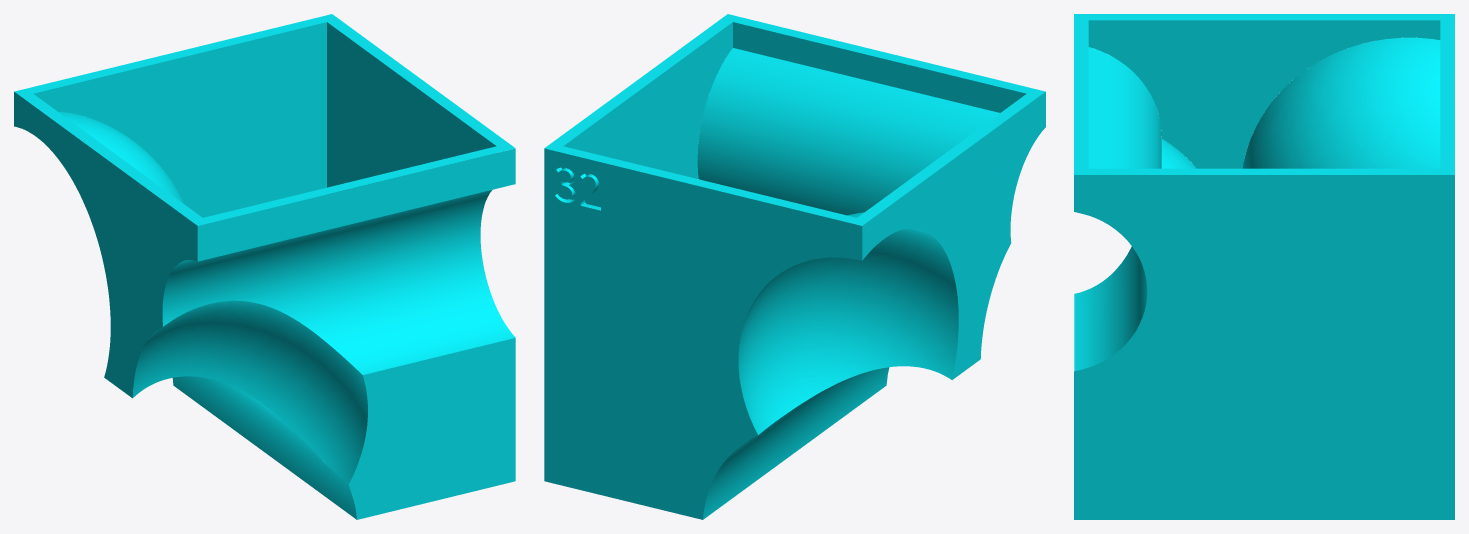
The picture shows the model from 3 angles, left to right: view 1: azimuth 30°, elevation 25°; view 2: azimuth 150°, elevation 25°; view 3: azimuth 270°, elevation 25°; orthographic projection. The views are drawn at different scales.
Parts seen in each view (by area): view 1: 70_vars_w-txt; view 2: 70_vars_w-txt; view 3: 70_vars_w-txt.
Part boxes in pixels (x1,y1,x2,y2): 70_vars_w-txt: (14, 14, 515, 519); 70_vars_w-txt: (544, 14, 1045, 519); 70_vars_w-txt: (1074, 14, 1454, 519).
Size of the model in its own units: 0.042 by 0.042 by 0.042.
